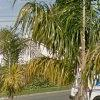Tree: (16, 4, 100, 66)
